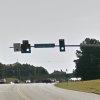Traffic light: (15, 28, 76, 60)
